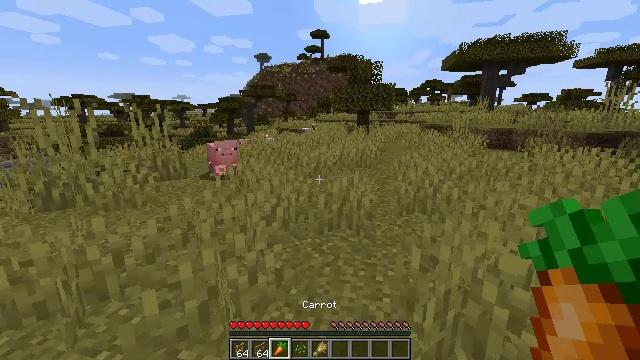chicken: (302, 124, 318, 131)
pig: (208, 139, 240, 178)
